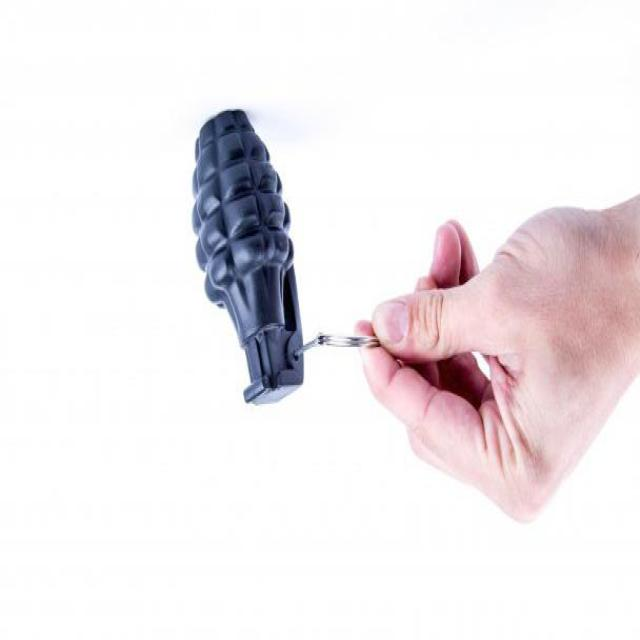grenade: (191, 111, 305, 407)
